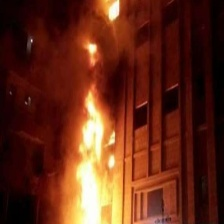fire: (75, 85, 116, 224), (84, 33, 99, 62)
smoke: (23, 25, 79, 219)
